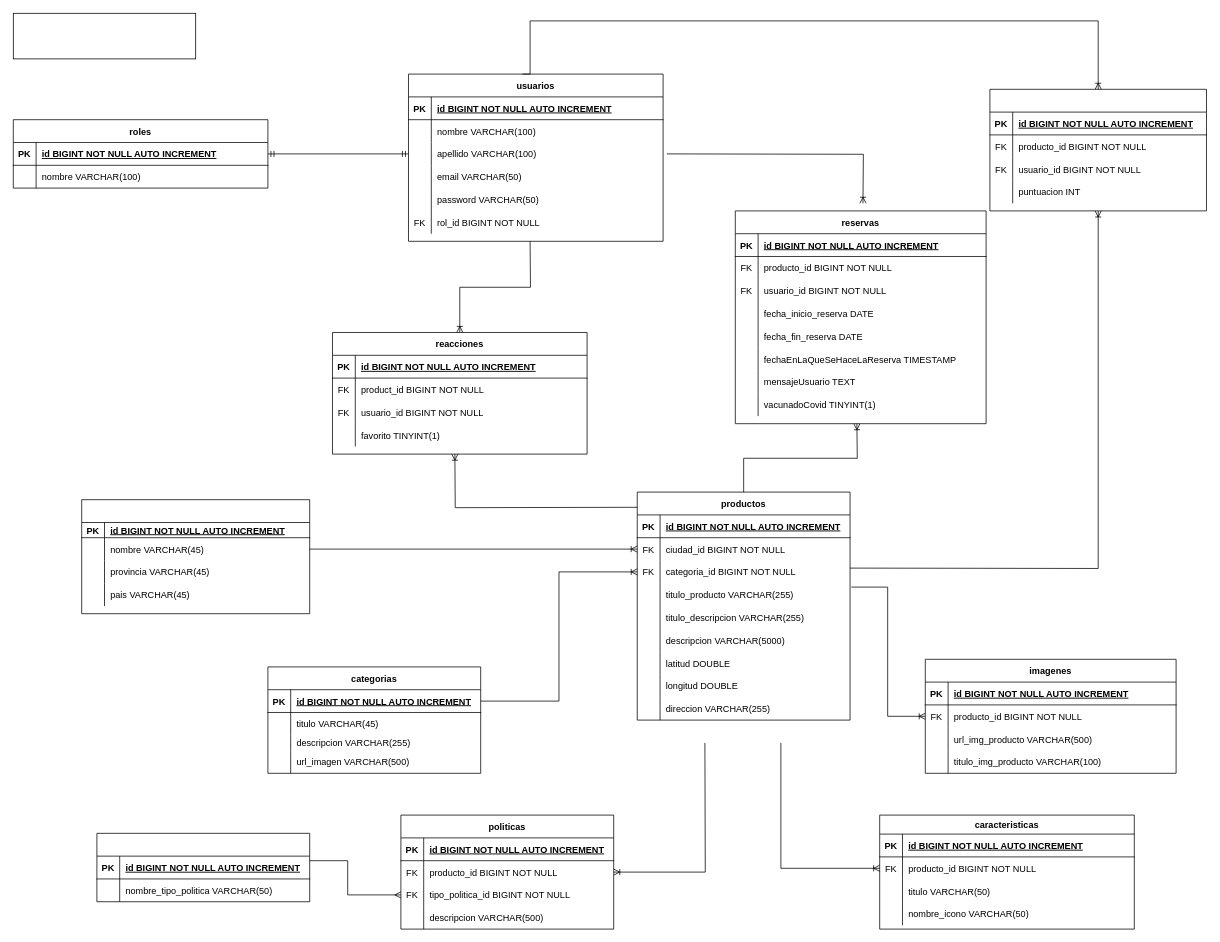
This 1220x942 diagram has some shape labels left out. Here are the shapes that lost their labels. From the top down, the box of each, then its label:
(13, 13, 196, 59): digital_booking_db
(989, 89, 1206, 211): puntuaciones
(81, 499, 310, 614): ciudades
(96, 833, 310, 902): tipo_de_politicas
